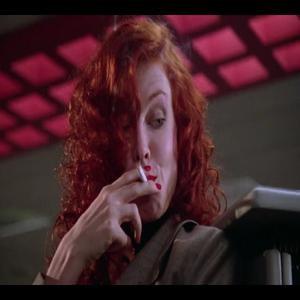cigarette: (135, 160, 152, 190)
